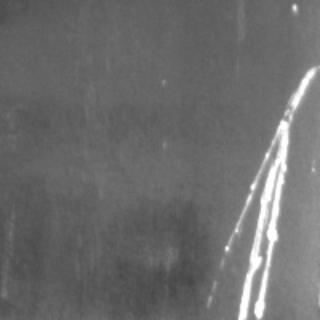scratches: (223, 63, 315, 317)
